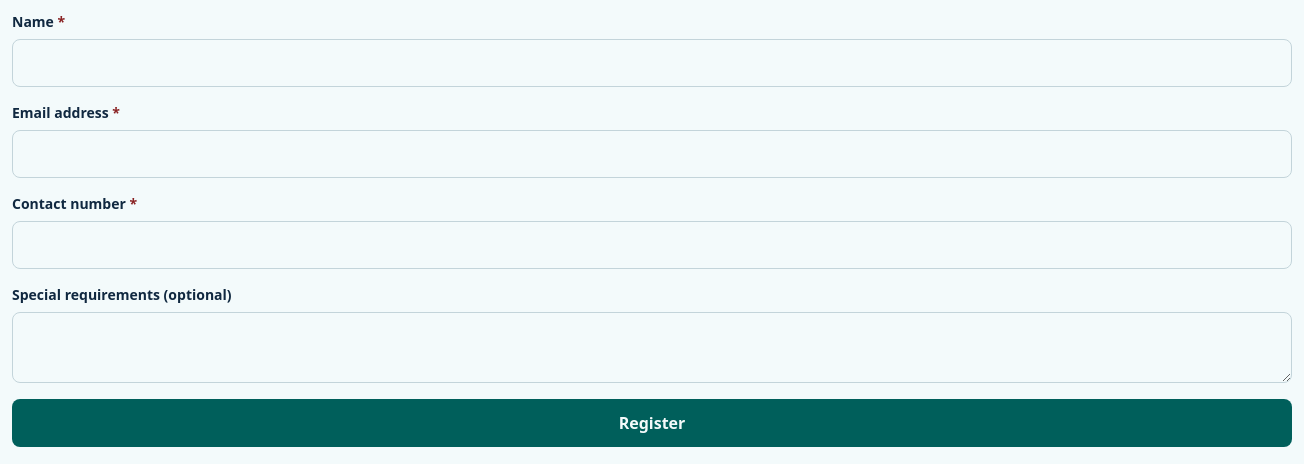
it: [TC-SPL-116-13] sends the details and shows the confirmation with the event and what was submitted
This screenshot has width=1304, height=464.
Type "Avery Koh" into the field labelled "Name" at (652, 63), box top-left (12, 39), bottom-right (1292, 87)
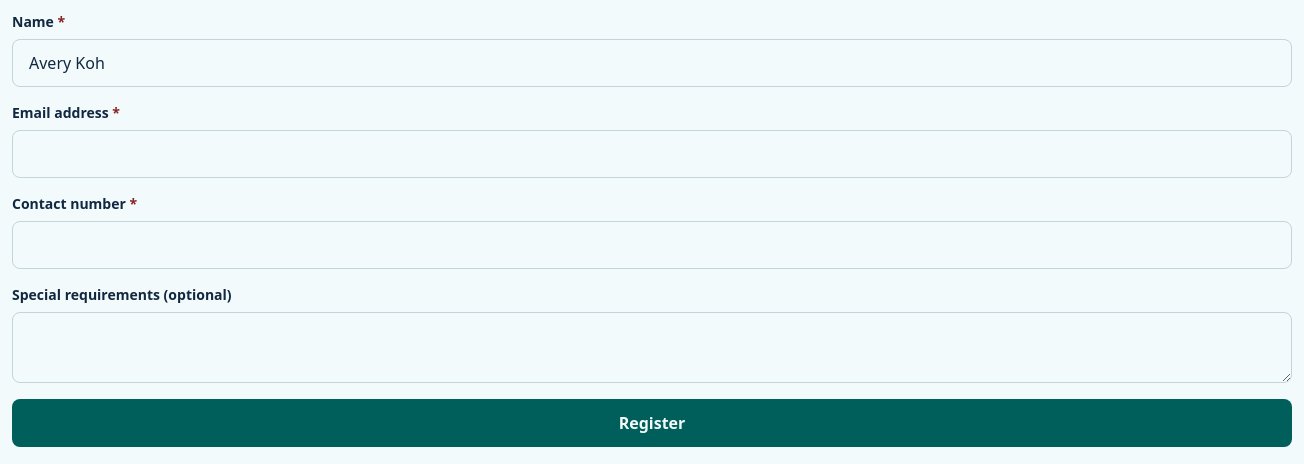
Type "avery@example.test" into the field labelled "Email address" at (652, 154), box top-left (12, 130), bottom-right (1292, 178)
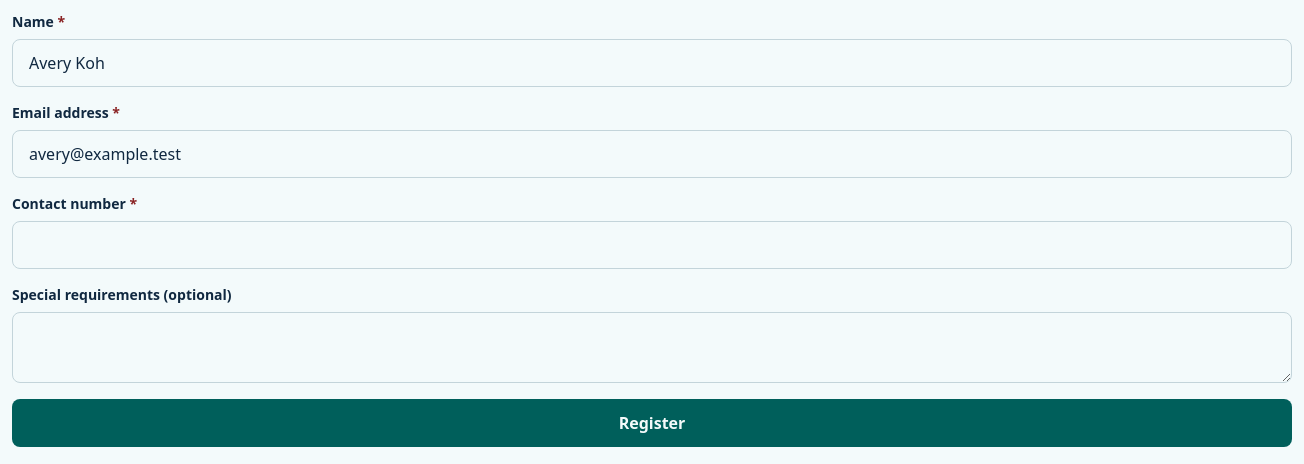
Type "+65 9123 4567" into the field labelled "Contact number" at (652, 245), box top-left (12, 221), bottom-right (1292, 269)
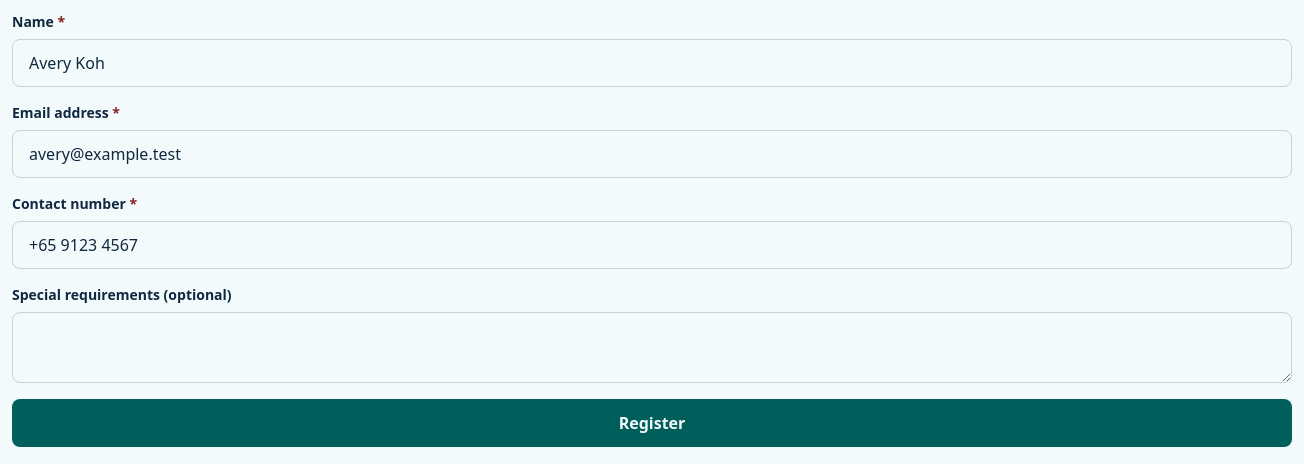
Type "Vegetarian meal" into the text box labelled "Special requirements (optional)" at (652, 348), box top-left (12, 312), bottom-right (1292, 383)
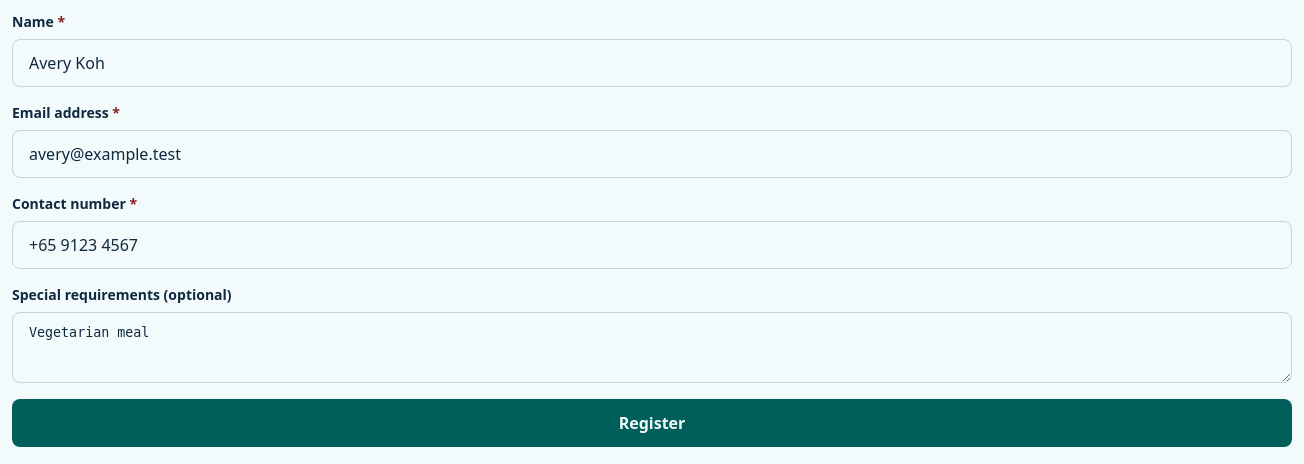
Click the button "Register" at (652, 423), box top-left (12, 399), bottom-right (1292, 447)
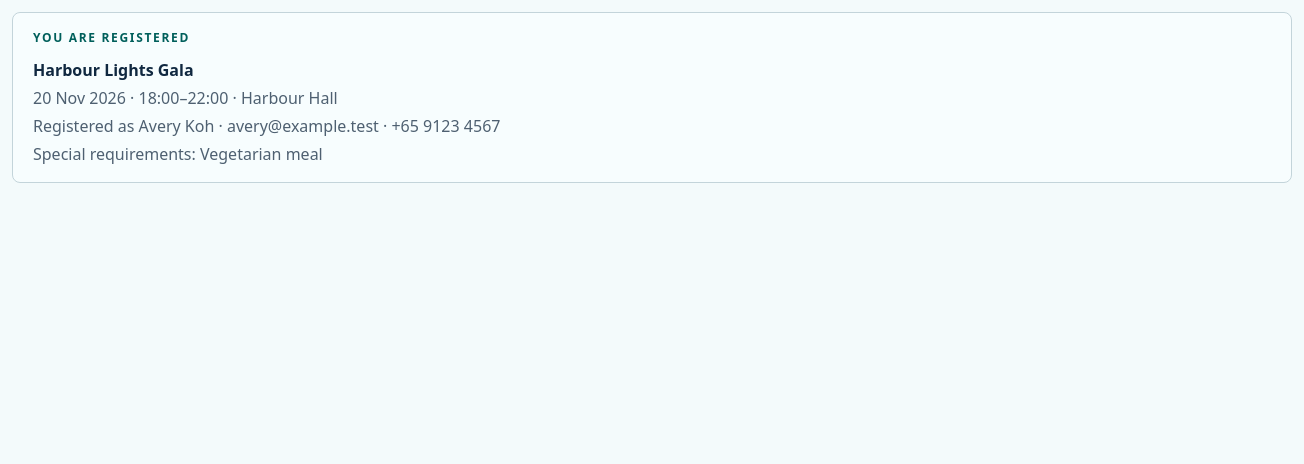
Check: the element "You are registered" shows "Harbour Lights Gala", box top-left (33, 59), bottom-right (194, 81)
Check: the element "You are registered" shows "20 Nov 2026", box top-left (33, 87), bottom-right (126, 109)
Check: the element "You are registered" shows "18:00–22:00", box top-left (12, 12), bottom-right (1292, 183)
